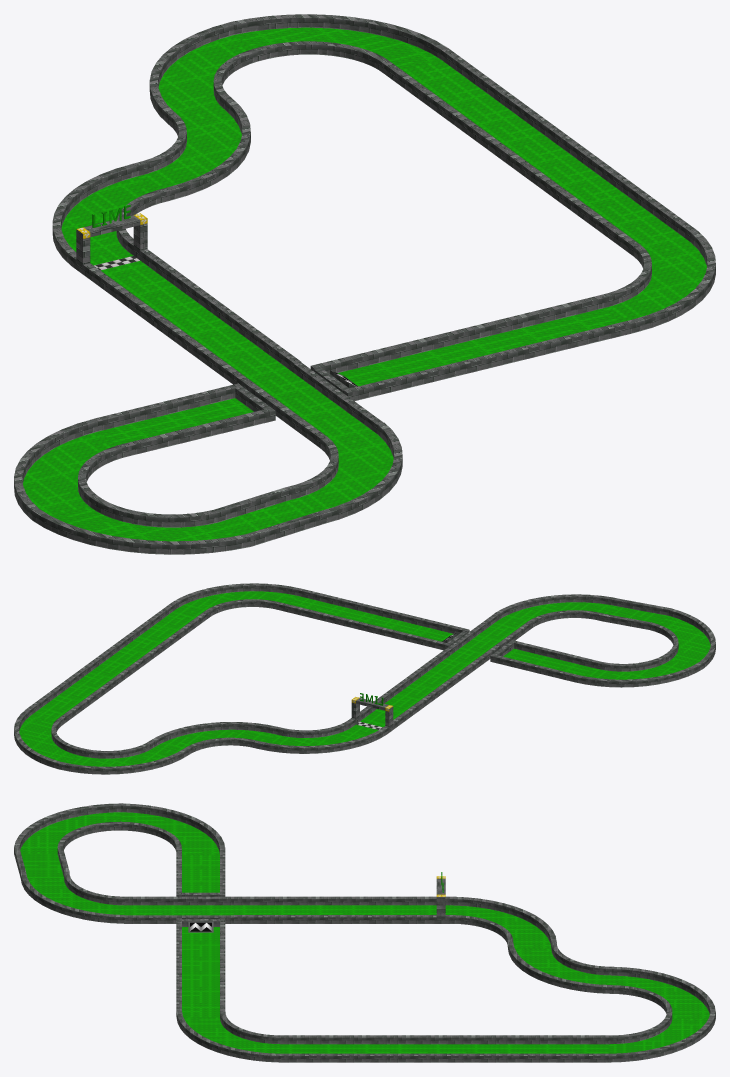
The picture shows the model from 3 angles, top to bottom: view 1: azimuth 30°, elevation 25°; view 2: azimuth 150°, elevation 25°; view 3: azimuth 270°, elevation 25°; orthographic projection. The views are drawn at different scales.
Parts seen in each view (by area): view 1: course-SKP--Model_Main_Wall, course-SKP--Model_Main_Road; view 2: course-SKP--Model_Main_Wall, course-SKP--Model_Main_Road; view 3: course-SKP--Model_Main_Wall, course-SKP--Model_Main_Road.
Boxes of the visible parts, box(x1,y1,x2,y2) form: course-SKP--Model_Main_Wall: box(14, 14, 715, 554); course-SKP--Model_Main_Road: box(23, 27, 706, 541); course-SKP--Model_Main_Wall: box(14, 583, 715, 774); course-SKP--Model_Main_Road: box(19, 591, 710, 766); course-SKP--Model_Main_Wall: box(14, 803, 715, 1062); course-SKP--Model_Main_Road: box(20, 812, 709, 1053).
Size of what is drawn, in the model's own units: 54900 by 3594 by 64460.
5 materials, 5 textured.
